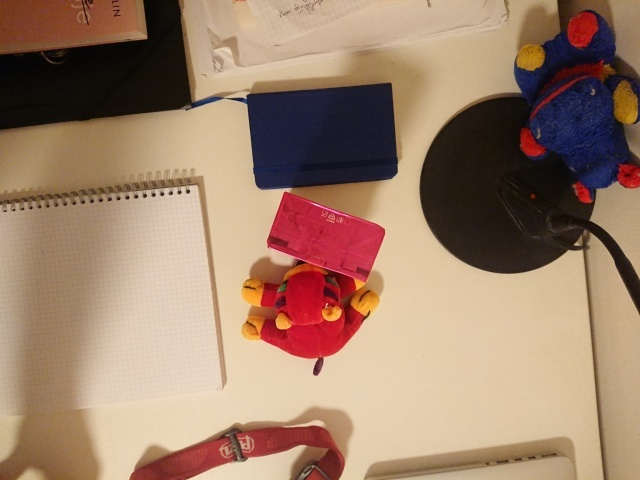Barcaffe Classic Original 225g: (265, 190, 388, 286)
